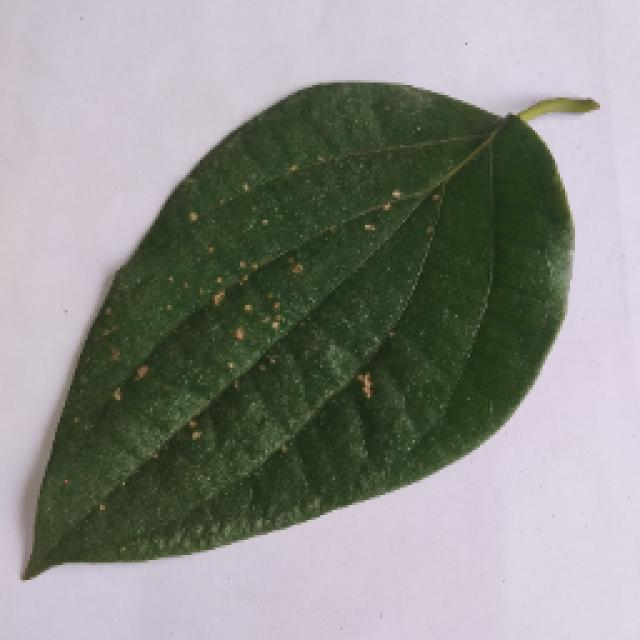pollu-disease: (18, 80, 600, 578)
